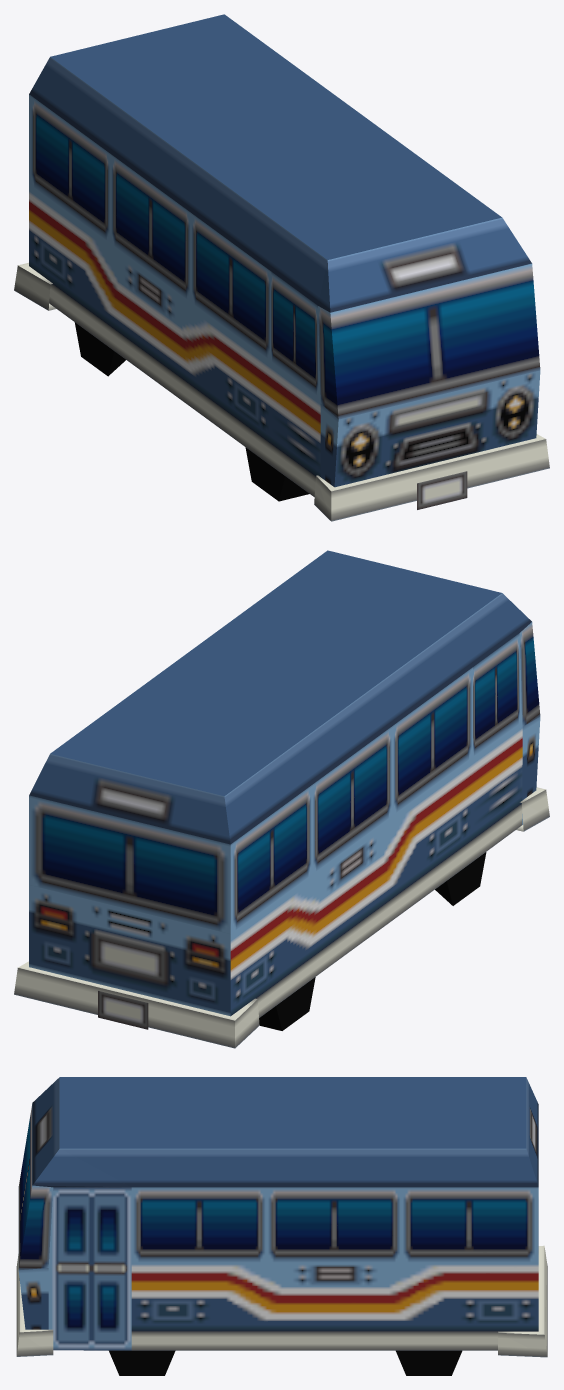
Rendered from MR_stage4-bus_a.glb.
3 renders of one model, top to bottom at view 1: azimuth 30°, elevation 25°; view 2: azimuth 150°, elevation 25°; view 3: azimuth 270°, elevation 25°, orthographic. The views are drawn at different scales.
Visible parts, largest first — view 1: bus_a; view 2: bus_a; view 3: bus_a.
Boxes of the visible parts, <box> form: bus_a: <box>14,14,549,521</box>; bus_a: <box>14,550,549,1048</box>; bus_a: <box>16,1077,547,1375</box>.
Bounding box in the file's own units: 2.91 × 3.32 × 7.28.
Materials: 1 (1 with a texture image).
